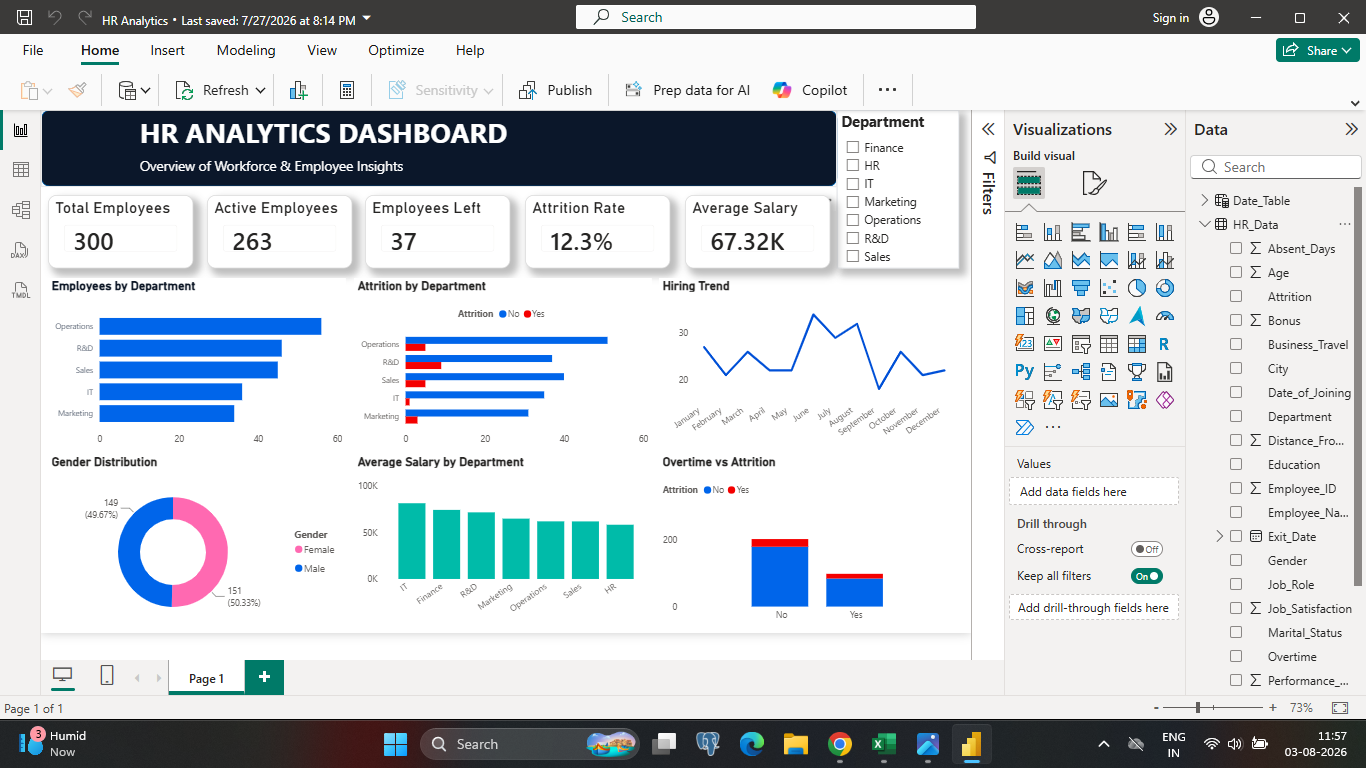

This screenshot's page, from the dashboard's own definition file:
{"tool":"powerbi","page":{"name":"Page 1","canvas":[1280,720],"ordinal":0},"visuals":[{"type":"cardVisual","title":"Total Employees","fields":{"Data":["Date_Table.Total Employees"]},"box":[10.2,117.1,200.5,101],"z":0},{"type":"cardVisual","title":"Active Employees","fields":{"Data":["Date_Table.Active Employees"]},"box":[228.3,117.1,200.5,101],"z":1000},{"type":"cardVisual","title":"Employees Left","fields":{"Data":["Date_Table.Employees Left"]},"box":[446.3,117.1,200.5,101],"z":2000},{"type":"cardVisual","title":"Attrition Rate","fields":{"Data":["Date_Table.Attrition Rate"]},"box":[665.9,117.1,200.5,101],"z":3000},{"type":"clusteredBarChart","title":"Employees by Department","fields":{"Category":["HR_Data.Department"],"Y":["CountNonNull(HR_Data.Employee_ID)"]},"box":[10.2,231.2,410,240],"z":4000},{"type":"clusteredBarChart","title":"Attrition by Department","fields":{"Category":["HR_Data.Department"],"Y":["CountNonNull(HR_Data.Employee_ID)"],"Series":["HR_Data.Attrition"]},"box":[430.7,231.2,410,240],"z":5000},{"type":"donutChart","title":"Gender Distribution","fields":{"Category":["HR_Data.Gender"],"Y":["CountNonNull(HR_Data.Employee_ID)"]},"box":[10.2,474.1,410,240],"z":6000},{"type":"clusteredColumnChart","title":"Average Salary by Department","fields":{"Category":["HR_Data.Department"],"Y":["Avg(HR_Data.Salary)"]},"box":[430.2,474.1,410,240],"z":7000},{"type":"lineChart","title":"Hiring Trend","fields":{"Category":["Date_Table.Month"],"Y":["CountNonNull(HR_Data.Employee_ID)"]},"box":[850.2,231.2,410,240],"z":8000},{"type":"columnChart","title":"Overtime vs Attrition","fields":{"Category":["HR_Data.Overtime"],"Y":["CountNonNull(HR_Data.Employee_ID)"],"Series":["HR_Data.Attrition"]},"box":[850.2,474.1,410,240],"z":9000},{"type":"slicer","title":"Department","fields":{"Values":["HR_Data.Department"]},"box":[1096.1,0,168.3,218],"z":10000},{"type":"shape","box":[0,0,1096.1,105.4],"z":11000},{"type":"textbox","box":[130.2,0,538.5,58.5],"z":12000},{"type":"textbox","box":[130.2,58.5,386.3,46.8],"z":13000},{"type":"cardVisual","title":"Average Salary","fields":{"Data":["Date_Table.Average Salary"]},"box":[886.8,117.1,200.5,101],"z":14000}]}

Visuals, with their boxes on the page's 1280x720 design canvas (x1, y1, x2, y2). These are canvas units, not pixel positions in the 1366x768 screenshot, which may show the page scaled, cropped or inside an application window:
"Total Employees" cardVisual: [left=10, top=117, right=211, bottom=218]
"Active Employees" cardVisual: [left=228, top=117, right=429, bottom=218]
"Employees Left" cardVisual: [left=446, top=117, right=647, bottom=218]
"Attrition Rate" cardVisual: [left=666, top=117, right=866, bottom=218]
"Employees by Department" clusteredBarChart: [left=10, top=231, right=420, bottom=471]
"Attrition by Department" clusteredBarChart: [left=431, top=231, right=841, bottom=471]
"Gender Distribution" donutChart: [left=10, top=474, right=420, bottom=714]
"Average Salary by Department" clusteredColumnChart: [left=430, top=474, right=840, bottom=714]
"Hiring Trend" lineChart: [left=850, top=231, right=1260, bottom=471]
"Overtime vs Attrition" columnChart: [left=850, top=474, right=1260, bottom=714]
"Department" slicer: [left=1096, top=0, right=1264, bottom=218]
shape: [left=0, top=0, right=1096, bottom=105]
textbox: [left=130, top=0, right=669, bottom=58]
textbox: [left=130, top=58, right=516, bottom=105]
"Average Salary" cardVisual: [left=887, top=117, right=1087, bottom=218]
